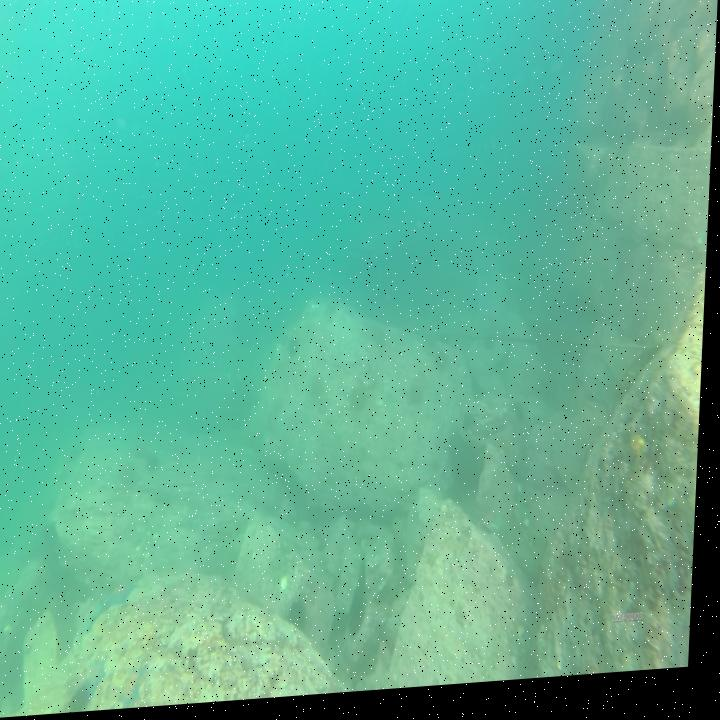echinus: (352, 382, 376, 423), (72, 683, 99, 714), (408, 378, 429, 417), (373, 321, 393, 359), (310, 376, 331, 408), (150, 448, 167, 482), (69, 438, 89, 466), (288, 338, 306, 368), (439, 351, 456, 382), (328, 295, 344, 327)
starfish: (107, 579, 144, 620), (80, 597, 111, 644), (123, 666, 155, 711), (88, 658, 115, 693)
